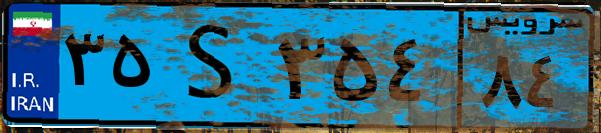3: (270, 28, 330, 110), (57, 26, 110, 100)
4: (385, 28, 445, 110), (525, 38, 570, 115)
5: (330, 28, 385, 110), (110, 28, 158, 98)
8: (475, 38, 525, 113)
S: (158, 12, 270, 120)
